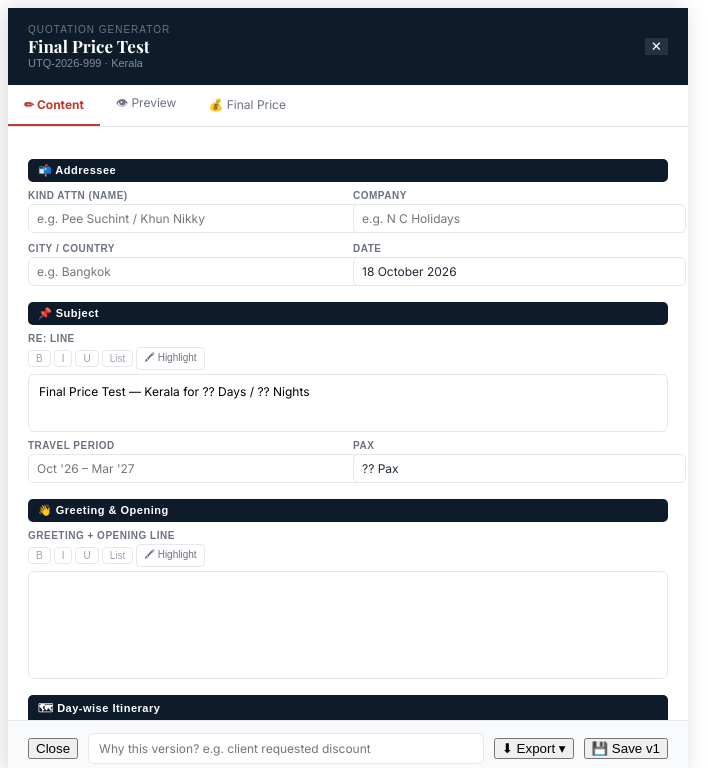
Final Price Agreement tab: Pax Paying vs FOC › the warning message clarifies FOC is optional
The image size is (708, 768).
Click the button "💰 Final Price" at (247,106), box [192,85,302,126]
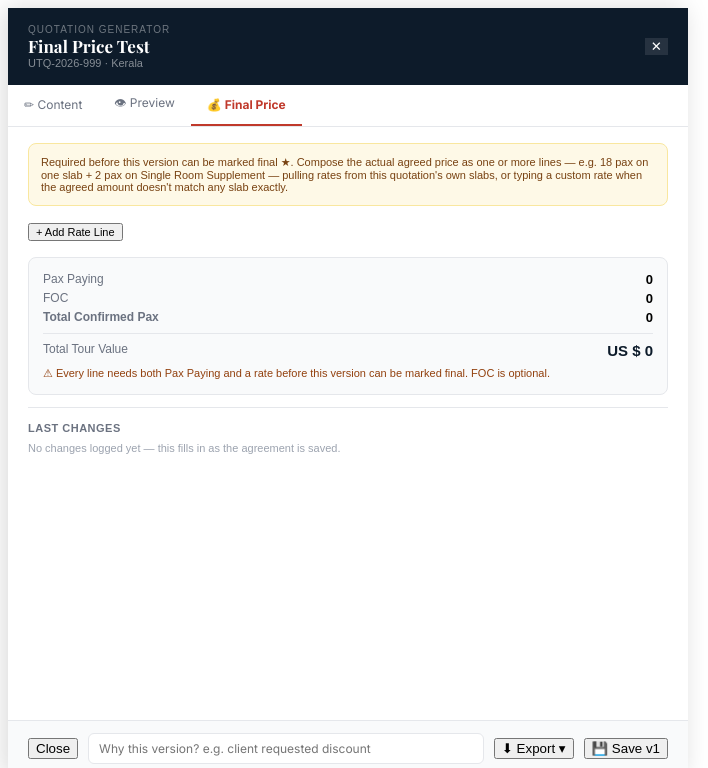
Expected: the text "FOC is optional" is shown, [43,367,550,379]
